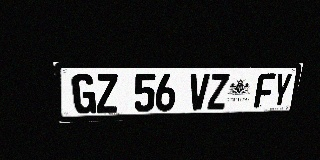5: (135, 74, 156, 112)
6: (155, 74, 177, 111)
F: (253, 73, 276, 108)
G: (71, 74, 96, 114)
V: (188, 74, 210, 110)
Y: (270, 73, 293, 107)
Z: (95, 74, 118, 113), (207, 74, 229, 110)
